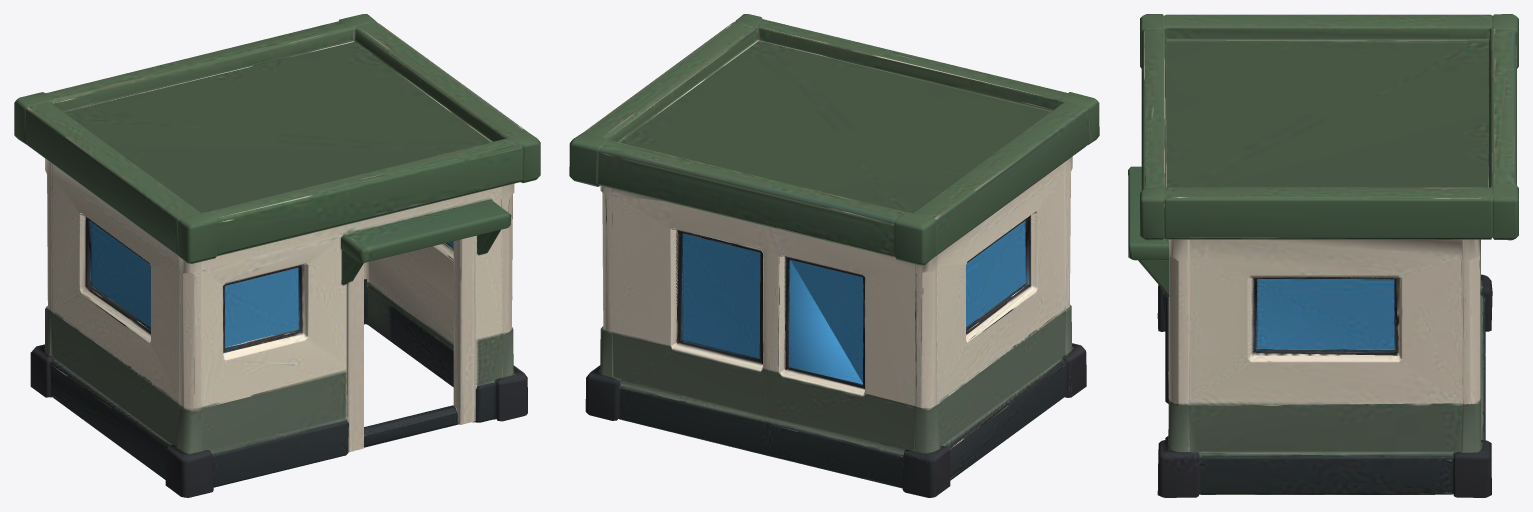
Rendered from building-4-guardhouse.glb.
3 views of the same model, side by side, from view 1: azimuth 30°, elevation 25°; view 2: azimuth 150°, elevation 25°; view 3: azimuth 270°, elevation 25° (orthographic). The views are drawn at different scales.
Size of the model in its own units: 0.9487 by 0.7178 by 0.8423.
Materials: 1 (1 with a texture image).
